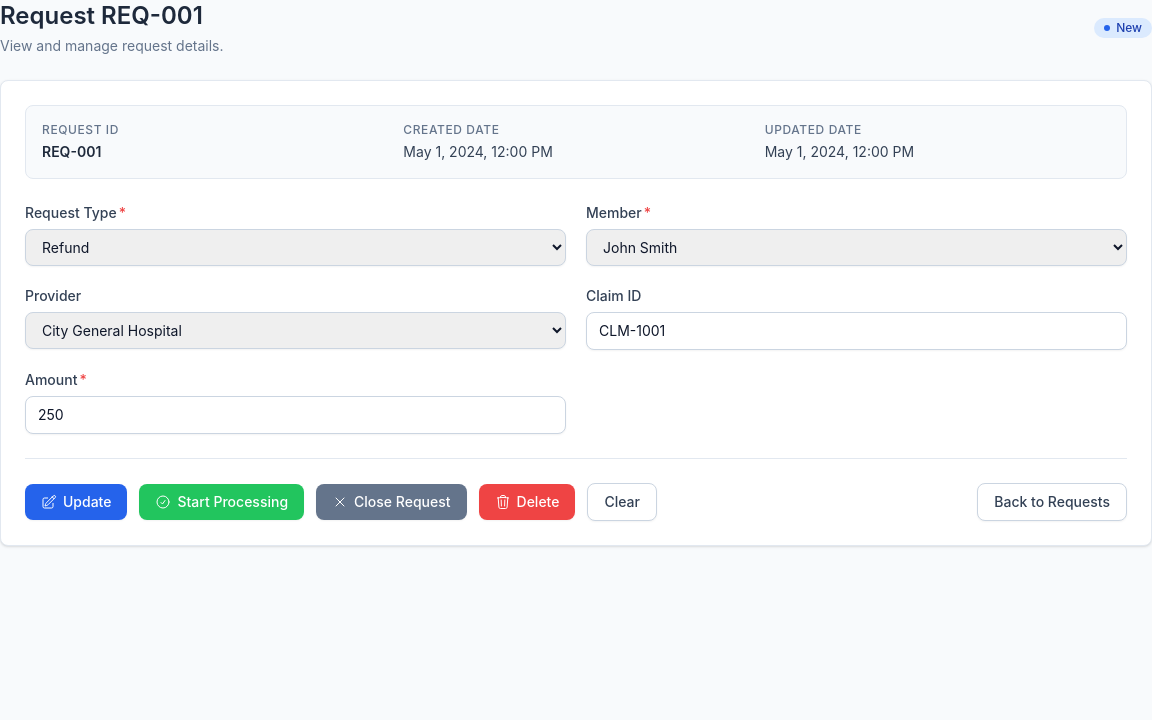
Test: CreateEditRequest › edit mode - status change actions › shows confirmation dialog when Start Processing is clicked
Step 1. Click the button "Start Processing" → (222, 502), box [140,484,304,520]
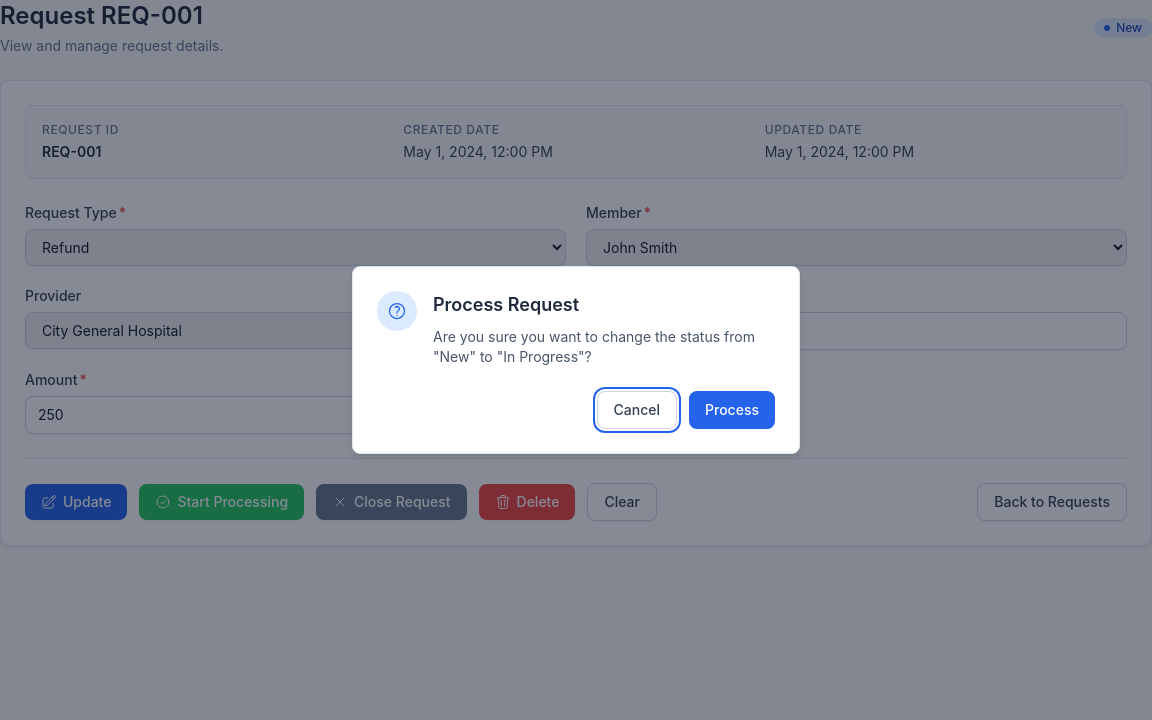
Now the heading "Process Request" is shown, box [433,294,579,315]
Now the text "Are you sure you want to change the status" is shown, box [433,328,755,365]
